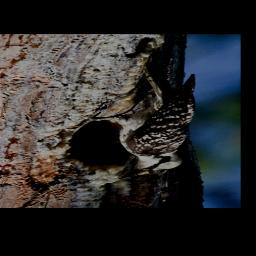Woodpecker: (89, 49, 205, 182)
